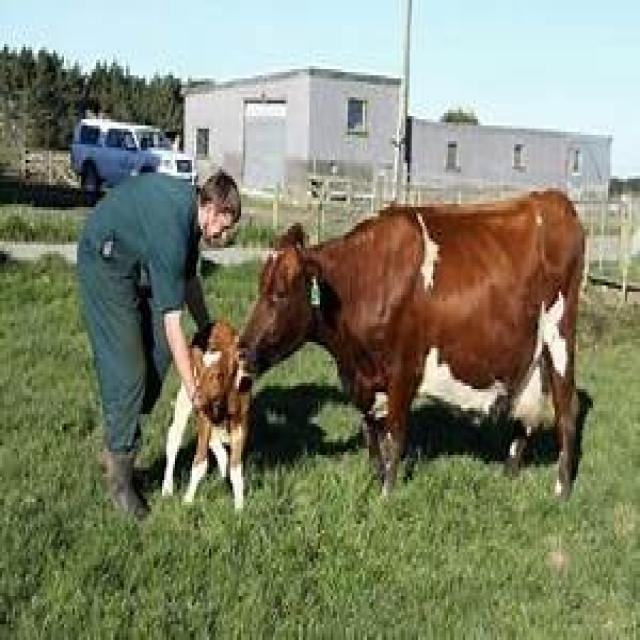animal: (232, 185, 589, 505), (160, 317, 252, 511)
